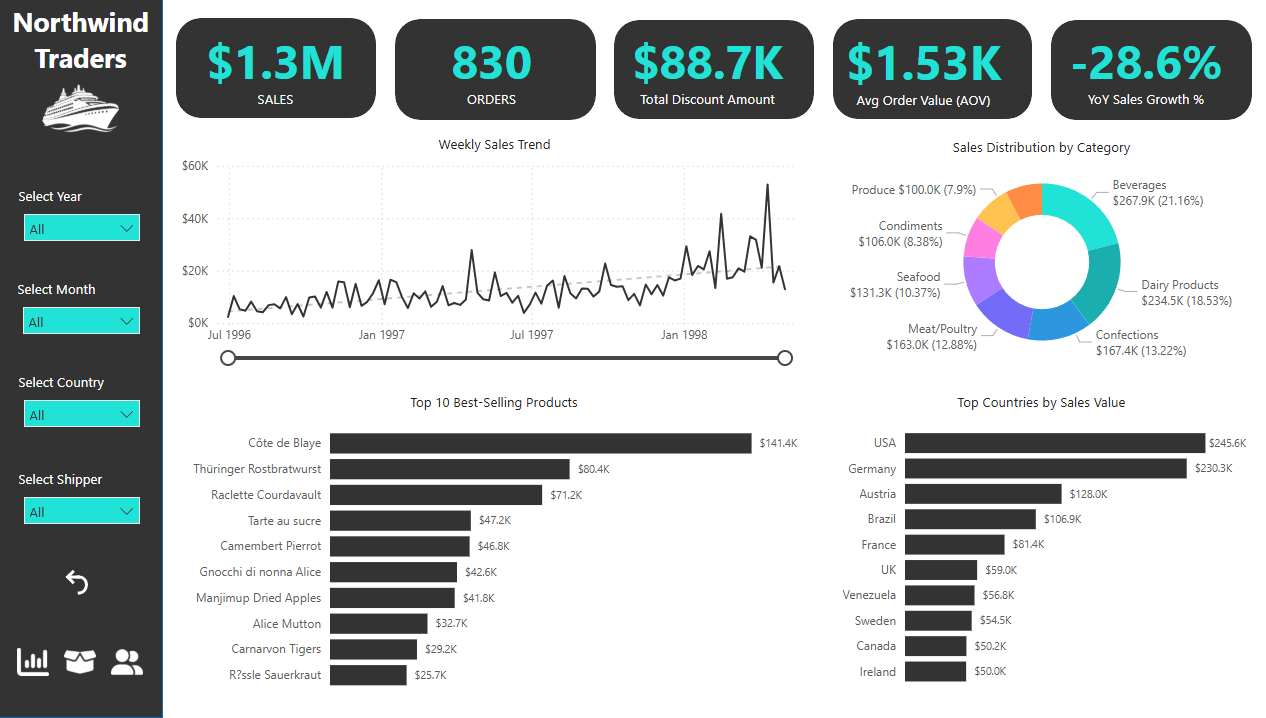

This screenshot's page, from the dashboard's own definition file:
{"tool":"powerbi","page":{"name":"Sales","canvas":[1280,720],"ordinal":0},"visuals":[{"type":"shape","title":"navigation","box":[10,0,164.5,720],"z":0},{"type":"card","fields":{"Values":["Measure Table.YoY Sales Growth %"]},"box":[1036,20,244,100],"z":0,"group":"g4"},{"type":"slicer","title":"Select Month","fields":{"Values":["Orders.Month Name"]},"box":[24.8,282,136.6,73.6],"z":0,"group":"g3"},{"type":"actionButton","box":[25.2,644,42.3,40.3],"z":0,"group":"g2"},{"type":"shape","box":[188,20.4,200.4,100.2],"z":1000,"group":"g1"},{"type":"card","fields":{"Values":["Measure Table (DAX).Total Sales"]},"box":[160.5,20.6,255.4,99.3],"z":1000,"group":"g4"},{"type":"slicer","title":"Select Country","fields":{"Values":["Orders.ShipCountry"]},"box":[25.7,375.1,135.7,77.1],"z":1000,"group":"g3"},{"type":"actionButton","box":[72.1,644,42.3,40.3],"z":1000,"group":"g2"},{"type":"card","fields":{"Values":["Measure Table (DAX).Avg Order Value (AOV)"]},"box":[808.1,20.6,255.4,99.3],"z":2000,"group":"g4"},{"type":"shape","box":[626.5,22.4,199.5,99.3],"z":2000,"group":"g1"},{"type":"slicer","title":"Select Shipper","fields":{"Values":["Shippers.CompanyName"]},"box":[25.7,471.8,135.7,77.1],"z":2000,"group":"g3"},{"type":"actionButton","box":[118.9,644,42.3,40.3],"z":2000,"group":"g2"},{"type":"card","fields":{"Values":["Measure Table.Total Discount Amount"]},"box":[592.3,20.6,255.4,99.3],"z":3000,"group":"g4"},{"type":"shape","box":[407.2,21.7,200.4,100.2],"z":3000,"group":"g1"},{"type":"slicer","title":"Select Year","fields":{"Values":["Orders.Year"]},"box":[25.7,188.9,135.7,73.6],"z":3000,"group":"g3"},{"type":"card","fields":{"Values":["Measure Table (DAX).Total Orders"]},"box":[376.4,20.6,255.4,99.3],"z":4000,"group":"g4"},{"type":"shape","box":[1063.2,22.2,200.4,100.2],"z":4000,"group":"g1"},{"type":"shape","box":[844.8,21.1,199.5,100.2],"z":5000,"group":"g1"},{"type":"clusteredBarChart","title":"Top 10 Best-Selling Products","fields":{"Category":["Products.ProductName"],"Y":["Measure Table.Total Sales"]},"box":[188.2,395.5,637.3,307.3],"z":6000},{"type":"donutChart","title":"Sales Distribution by Category","fields":{"Category":["Categories.CategoryName"],"Y":["Measure Table (DAX).Total Sales"]},"box":[844.5,140,418.2,230.9],"z":7000},{"type":"lineChart","title":"Weekly Sales Trend","fields":{"Y":["Measure Table.Total Sales"],"Category":["Orders.Start of Week"]},"box":[188.5,137.1,638,233.8],"z":8000},{"type":"clusteredBarChart","title":"Top Countries by Sales Value","fields":{"Category":["Orders.ShipCountry"],"Y":["Measure Table.Total Sales"]},"box":[844.5,395.5,418.2,303.6],"z":9000},{"type":"textbox","box":[12.1,0,162.3,94.7],"z":10000},{"type":"image","box":[25.2,71.6,135.1,77.6],"z":11000},{"type":"actionButton","box":[71.8,567.5,36.4,33.7],"z":12000},{"type":"group","id":"g1","title":"KPI Backgrounds","box":[188,20.4,1075.6,102],"z":12500},{"type":"group","id":"g2","title":"Navigation","box":[25.2,644,136.1,40.3],"z":13000},{"type":"group","id":"g3","title":"Slicer","box":[24.8,188.9,136.6,360],"z":14000},{"type":"group","id":"g4","title":"KPIs","box":[160.5,20,1119.5,100],"z":15000}]}

Visuals, with their boxes in screenshot pixels (x1, y1, x2, y2), scaled from the page's 1280x720 canvas onto the 1266x718 screenshot:
"navigation" shape: box=[10, 0, 173, 717]
card - Measure Table.YoY Sales Growth %: box=[1025, 20, 1265, 120]
"Select Month" slicer: box=[25, 281, 160, 355]
actionButton: box=[25, 642, 67, 682]
shape: box=[186, 20, 384, 120]
card - Measure Table (DAX).Total Sales: box=[159, 21, 411, 120]
"Select Country" slicer: box=[25, 374, 160, 451]
actionButton: box=[71, 642, 113, 682]
card - Measure Table (DAX).Avg Order Value (AOV): box=[799, 21, 1052, 120]
shape: box=[620, 22, 817, 121]
"Select Shipper" slicer: box=[25, 470, 160, 547]
actionButton: box=[118, 642, 159, 682]
card - Measure Table.Total Discount Amount: box=[586, 21, 838, 120]
shape: box=[403, 22, 601, 122]
"Select Year" slicer: box=[25, 188, 160, 262]
card - Measure Table (DAX).Total Orders: box=[372, 21, 625, 120]
shape: box=[1052, 22, 1250, 122]
shape: box=[836, 21, 1033, 121]
"Top 10 Best-Selling Products" clusteredBarChart: box=[186, 394, 816, 701]
"Sales Distribution by Category" donutChart: box=[835, 140, 1249, 370]
"Weekly Sales Trend" lineChart: box=[186, 137, 817, 370]
"Top Countries by Sales Value" clusteredBarChart: box=[835, 394, 1249, 697]
textbox: box=[12, 0, 172, 94]
image: box=[25, 71, 159, 149]
actionButton: box=[71, 566, 107, 600]
"KPI Backgrounds" group: box=[186, 20, 1250, 122]
"Navigation" group: box=[25, 642, 160, 682]
"Slicer" group: box=[25, 188, 160, 547]
"KPIs" group: box=[159, 20, 1265, 120]
